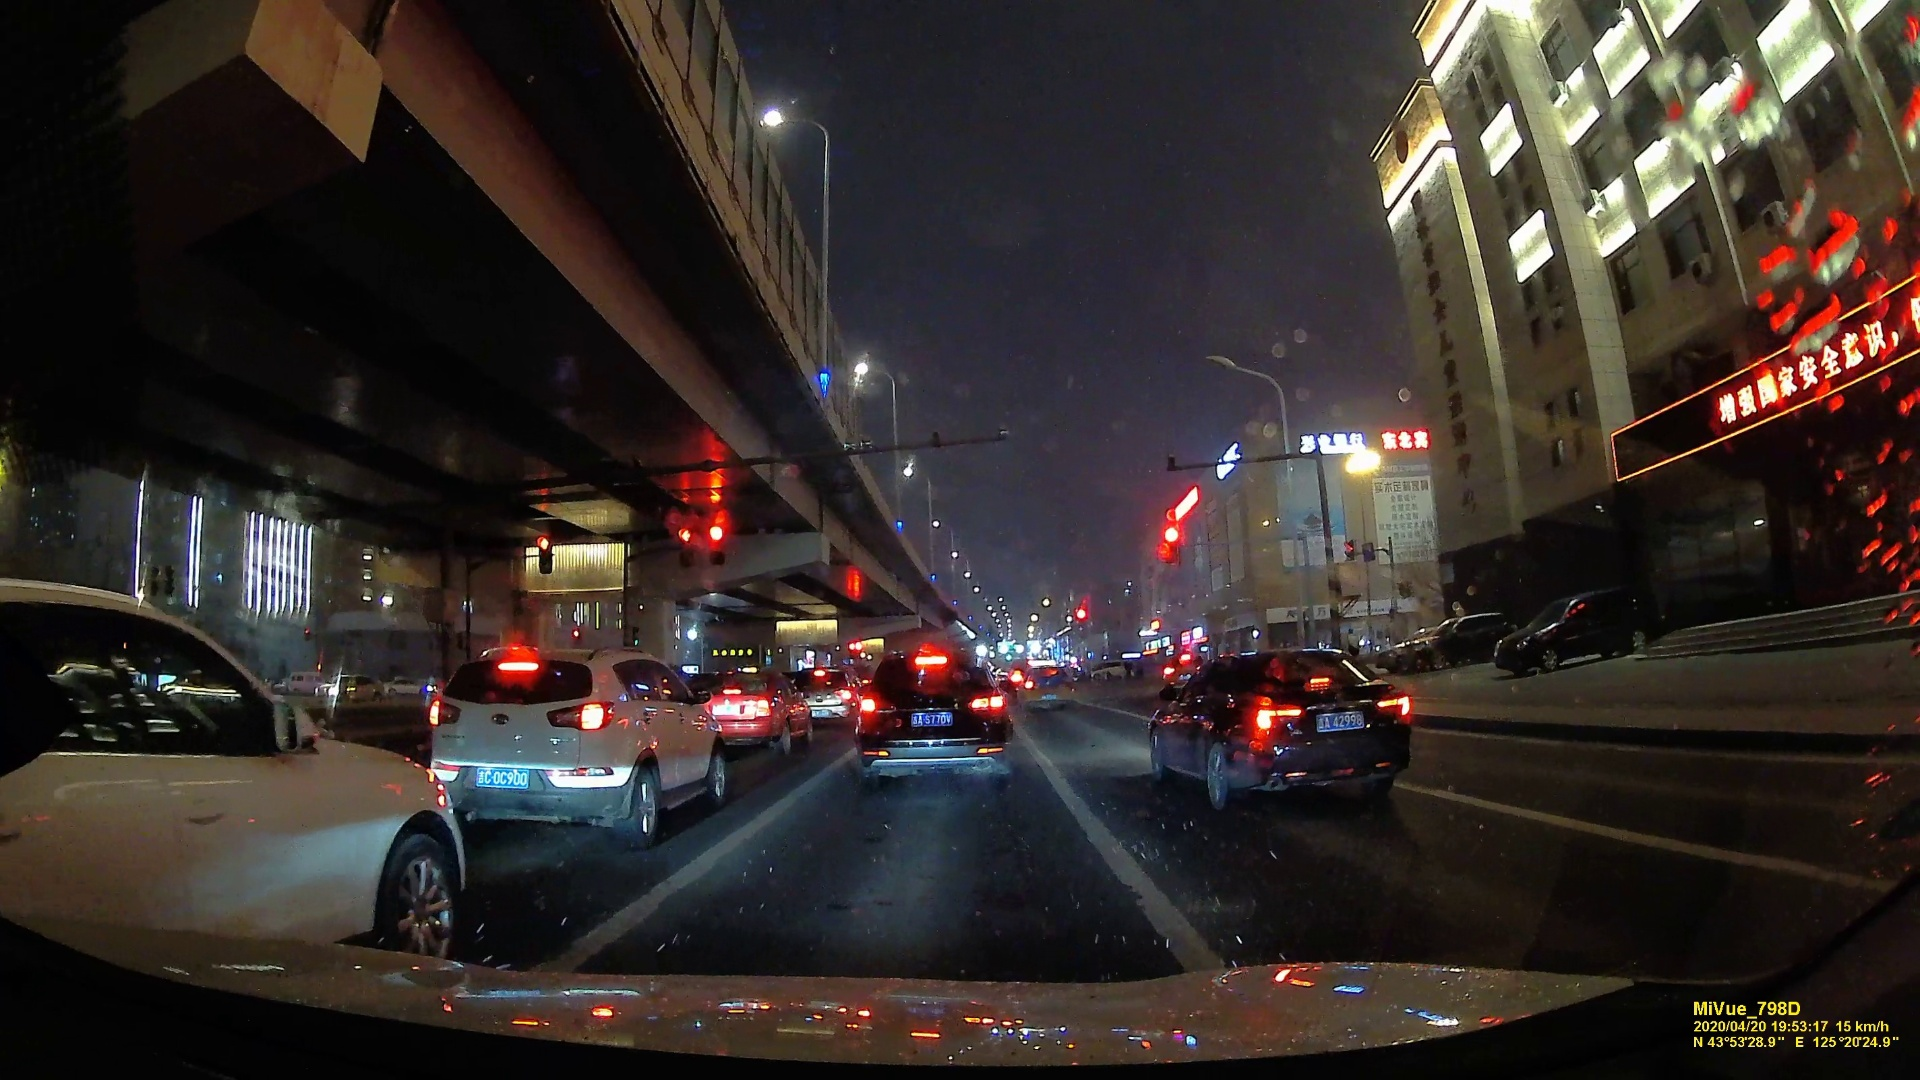traffic_sign: (675, 524, 696, 568), (535, 535, 555, 574), (1160, 525, 1182, 560)
vehicle: (3, 584, 465, 972), (426, 649, 719, 848), (1141, 646, 1418, 808), (851, 645, 1011, 789), (1493, 587, 1639, 667), (686, 670, 804, 754), (705, 520, 729, 567)
